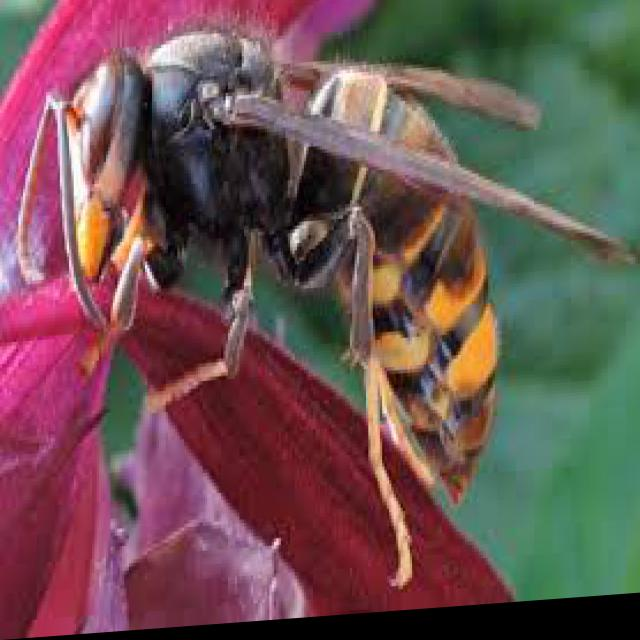Vespa Velutina: (7, 0, 638, 633)
